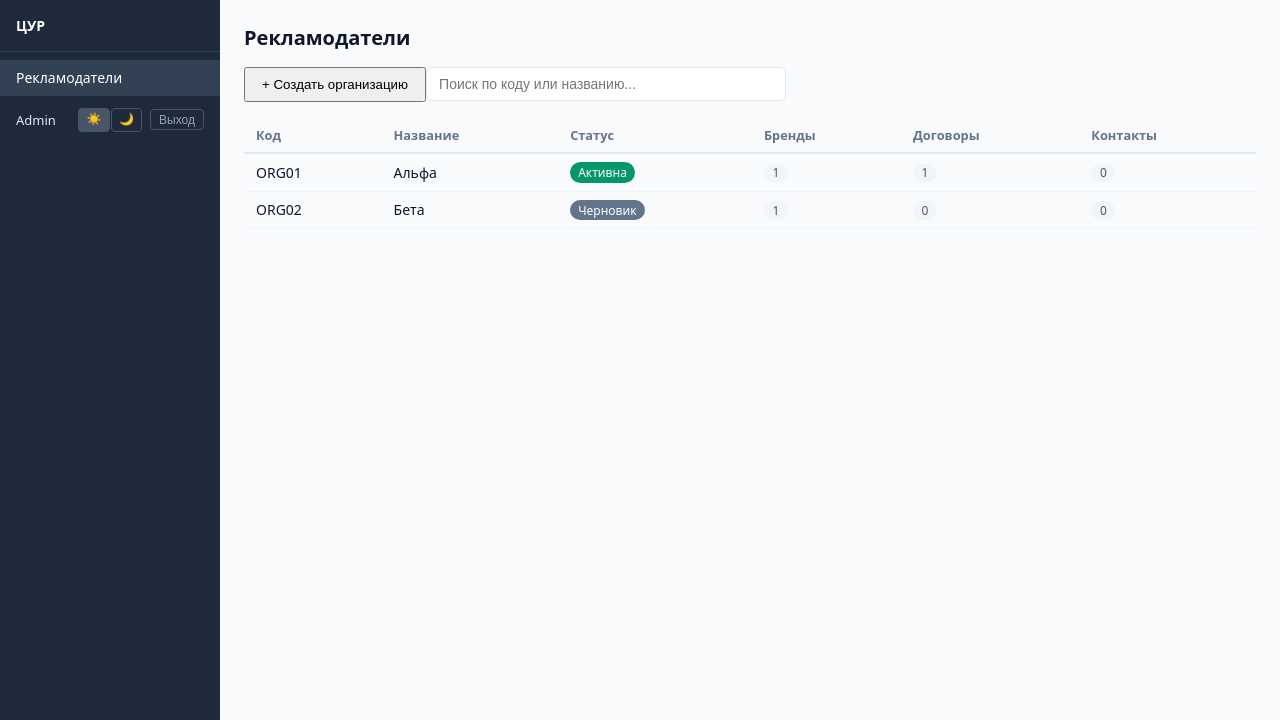
Test: AdvertisersPage › filters organizations by search
Expected: the text "Альфа" is shown, [382,153,558,191]
Expected: the text "Бета" is shown, [382,191,558,229]
Type "альфа" into the field with placeholder "Поиск по коду или названию..." at (606, 84), box [426,67,786,101]
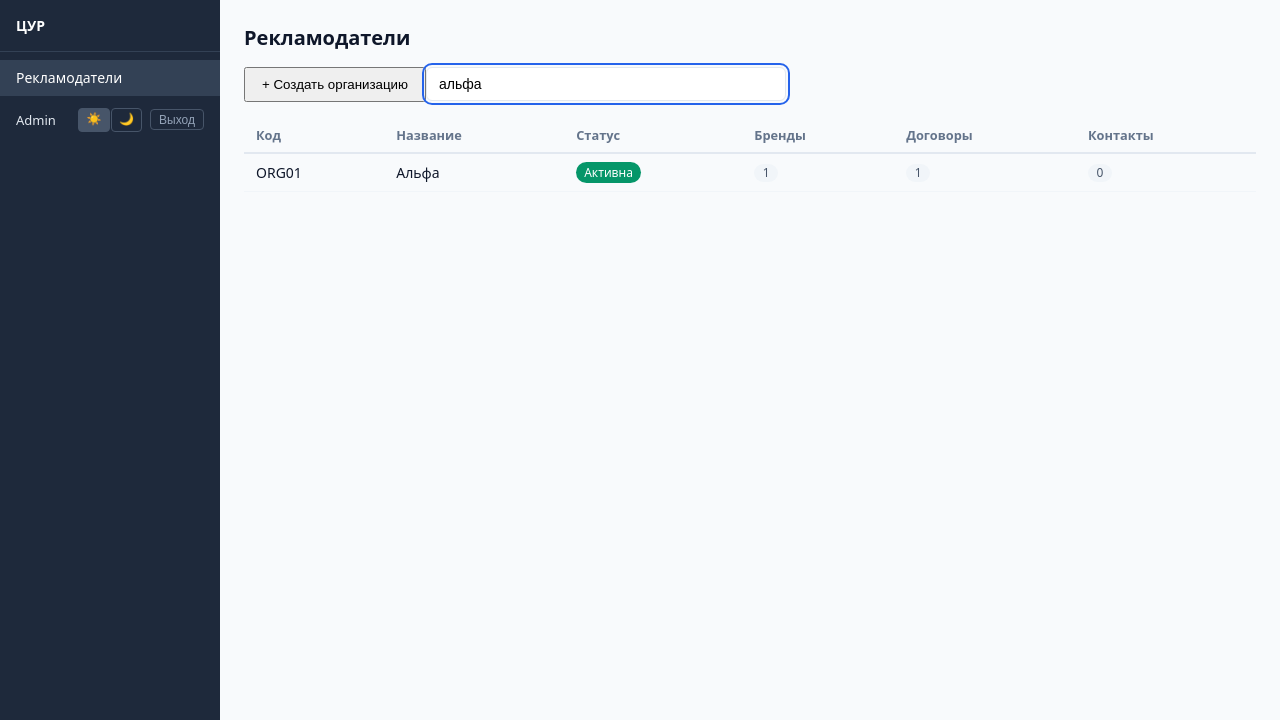
Expected: the text "Альфа" is shown, [384,153,564,191]
Expected: the text "Бета" is gone
